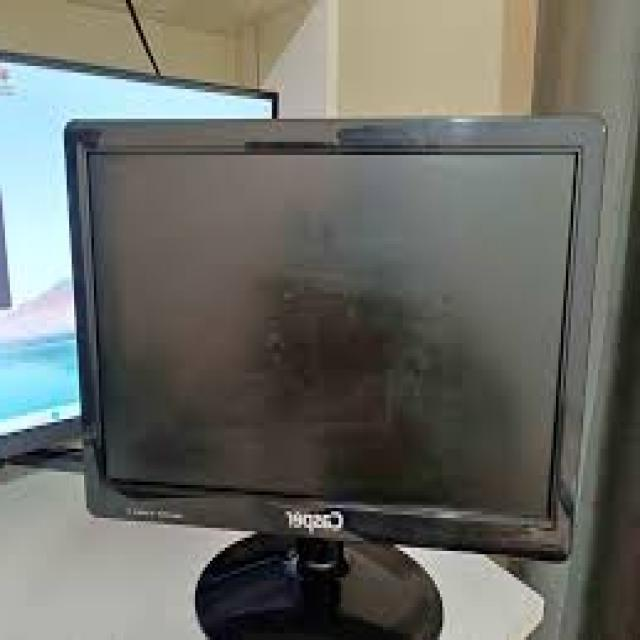monitor: (31, 86, 614, 640)
